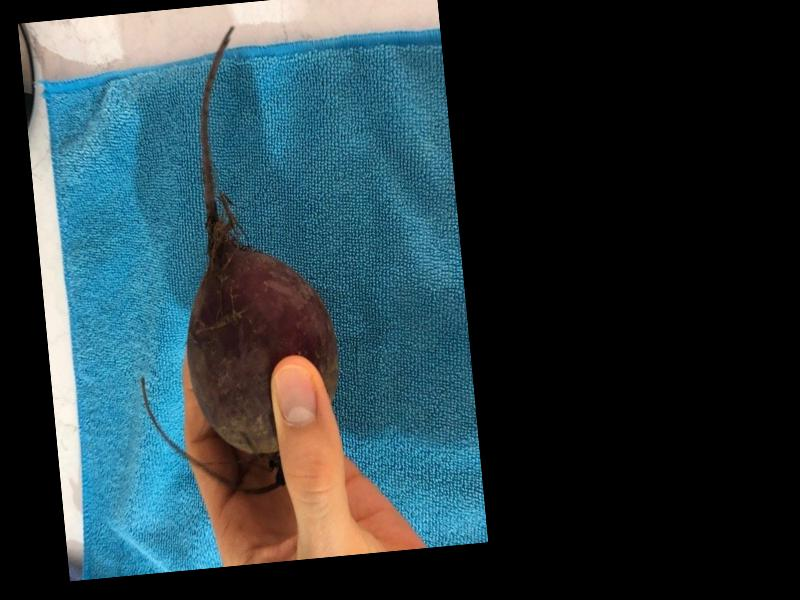Beet: (110, 17, 350, 502)
